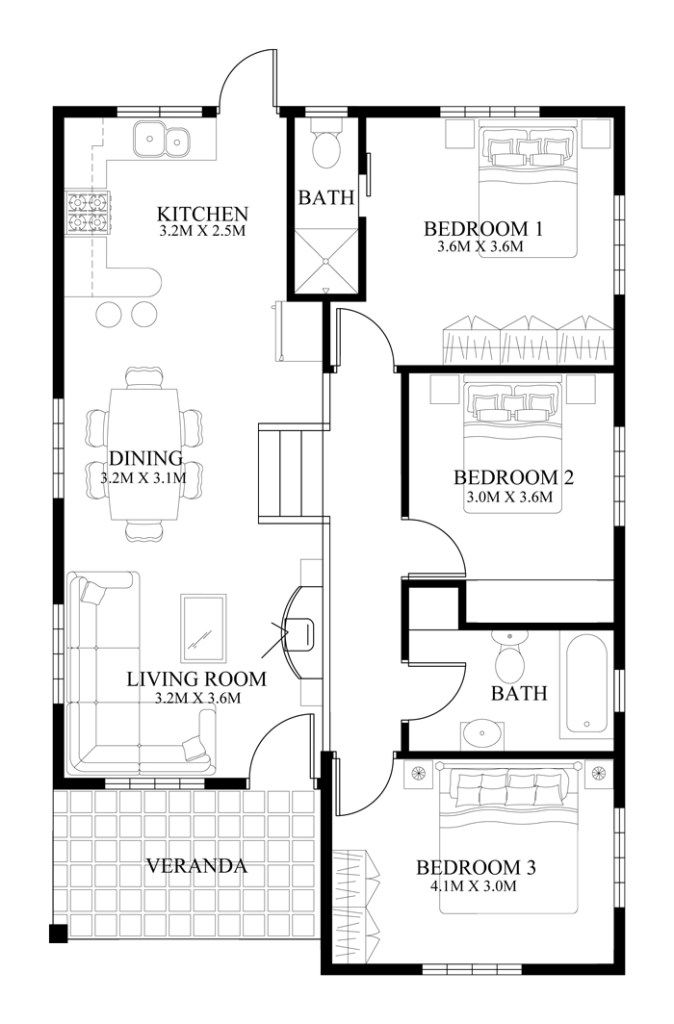room: (50, 103, 333, 790), (357, 99, 628, 375), (314, 747, 630, 975), (399, 363, 622, 632), (399, 574, 627, 761), (284, 100, 370, 306), (282, 98, 368, 304), (280, 96, 366, 302)
